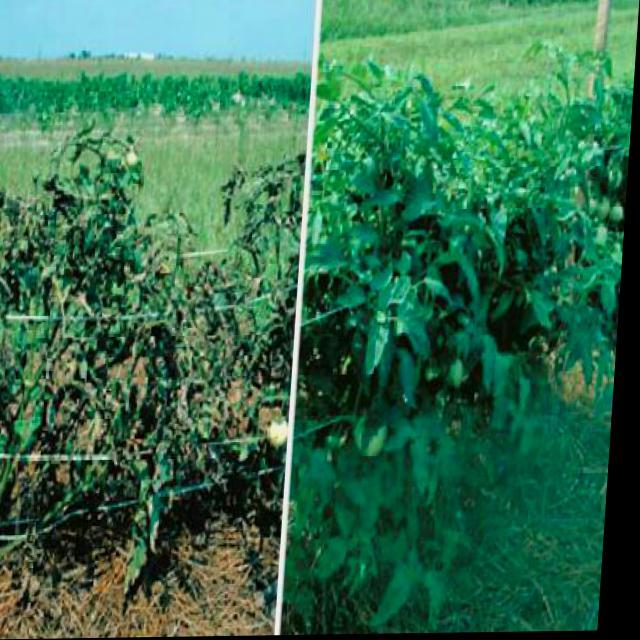Tomato late blight leaf: (406, 433, 444, 503), (363, 314, 398, 388), (456, 236, 488, 312), (406, 181, 440, 235), (484, 346, 514, 400)
